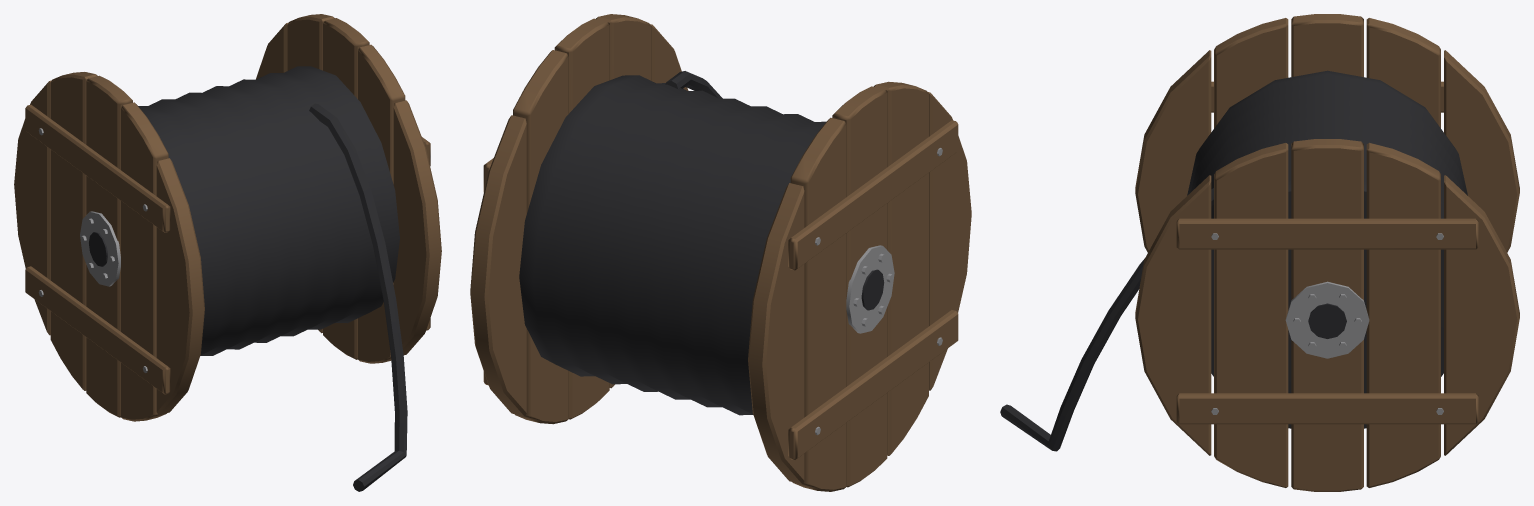
File: kit_spool.glb
3 renders of one model, left to right at view 1: azimuth 30°, elevation 25°; view 2: azimuth 150°, elevation 25°; view 3: azimuth 270°, elevation 25°, orthographic. The views are drawn at different scales.
Parts seen in each view (by area): view 1: kit_spool_wood, kit_spool_cable_paint, kit_spool_metal; view 2: kit_spool_wood, kit_spool_cable_paint, kit_spool_metal; view 3: kit_spool_wood, kit_spool_cable_paint, kit_spool_metal.
Boxes of the visible parts, left/top/right/bottom form: kit_spool_wood: left=14, top=14, right=441, bottom=421; kit_spool_cable_paint: left=89, top=66, right=407, bottom=491; kit_spool_metal: left=38, top=128, right=147, bottom=372; kit_spool_wood: left=470, top=14, right=971, bottom=491; kit_spool_cable_paint: left=519, top=71, right=884, bottom=415; kit_spool_metal: left=815, top=148, right=942, bottom=435; kit_spool_wood: left=1135, top=14, right=1519, bottom=491; kit_spool_cable_paint: left=1000, top=70, right=1467, bottom=451; kit_spool_metal: left=1211, top=233, right=1443, bottom=414.
Bounding box in the file's own units: 1.05 × 1.19 × 1.62.
